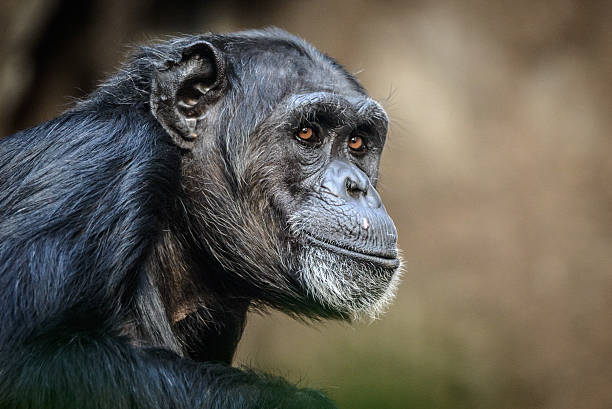chimpanzee: (82, 17, 443, 344)
